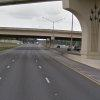Bridge: (5, 21, 86, 49)
